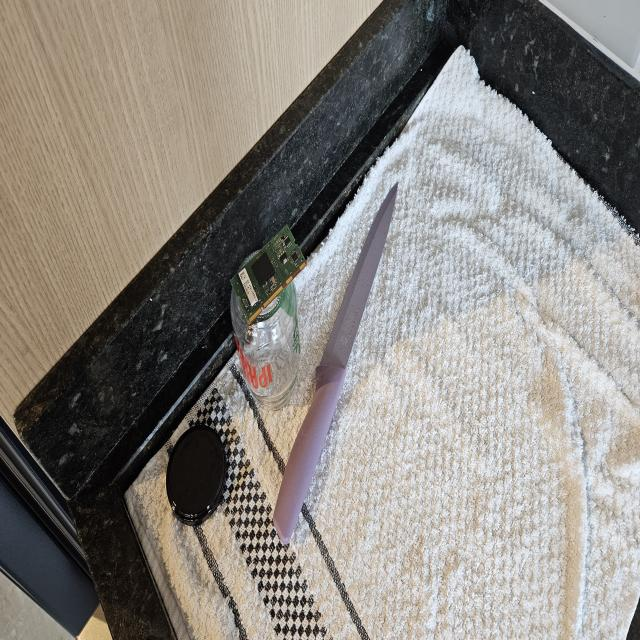som: (223, 222, 312, 328)
